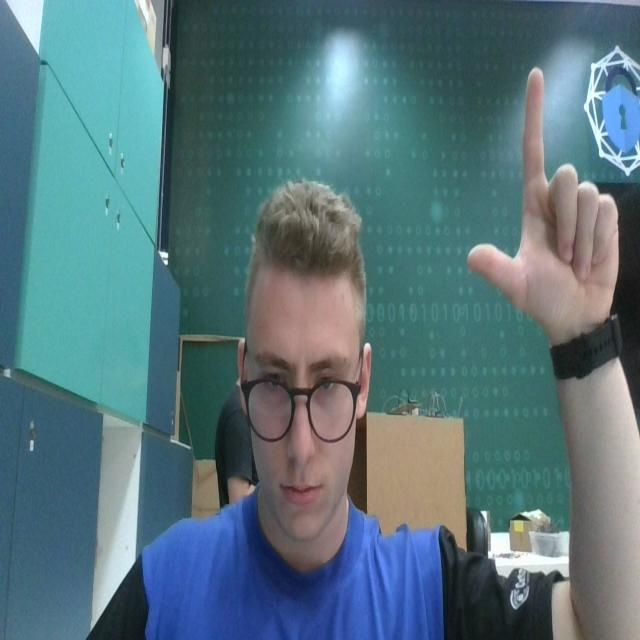L: (460, 61, 622, 326)
